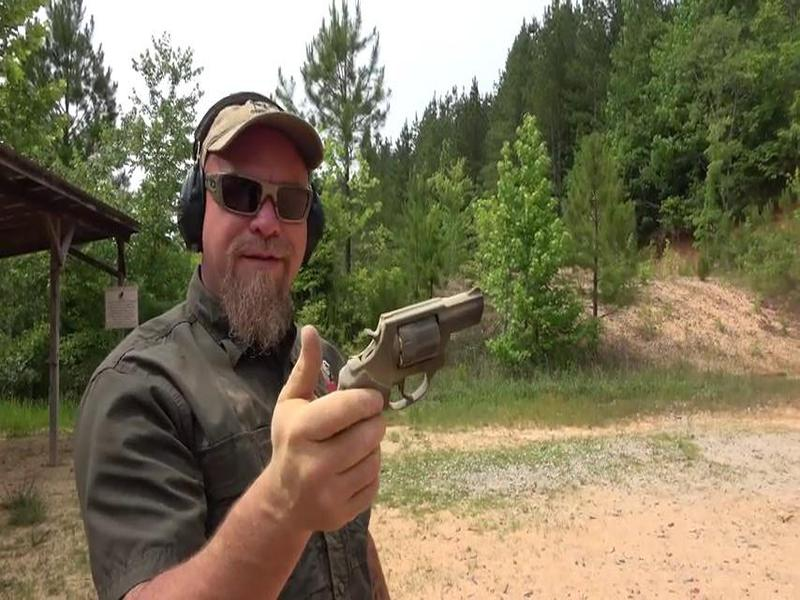Revolver: (327, 257, 494, 411)
